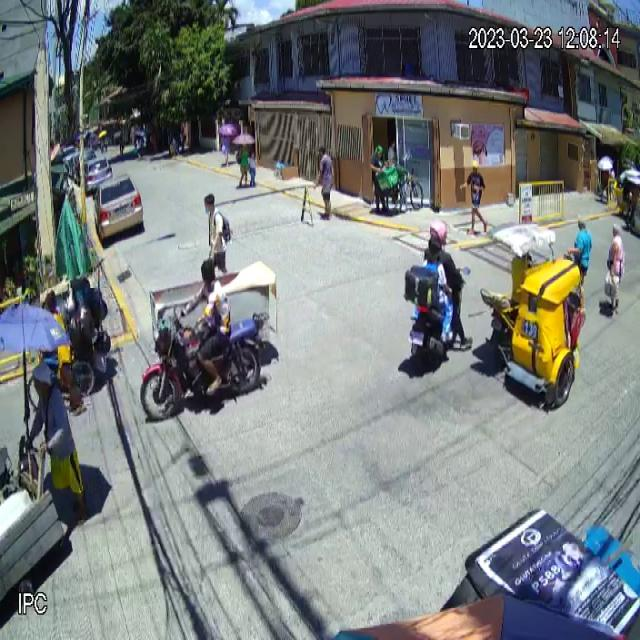Car: (94, 172, 144, 244)
Motorcycle: (139, 306, 269, 420), (403, 262, 472, 372)
Tricycle: (480, 222, 586, 405)
